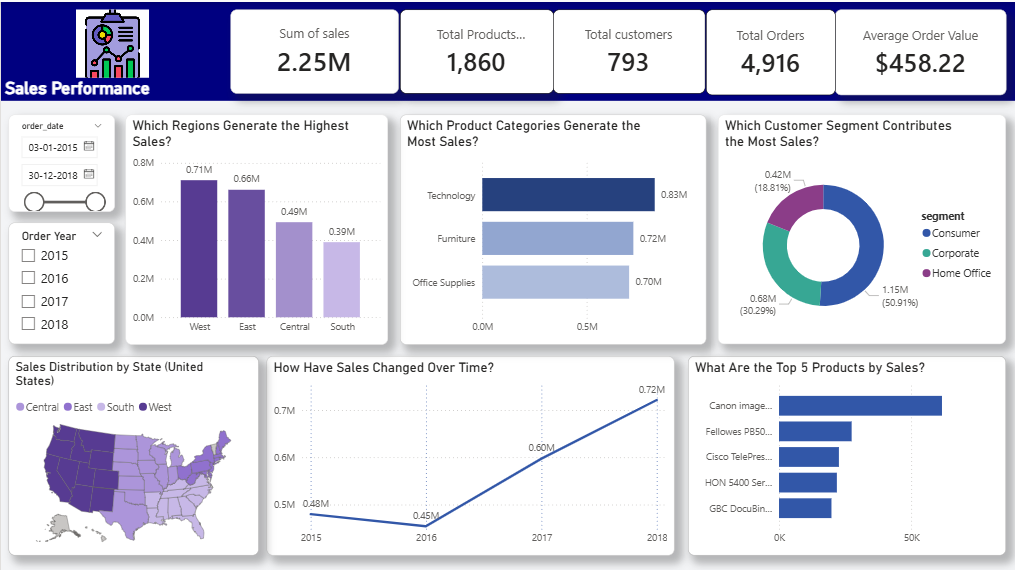

What the dashboard file says about the page in this screenshot:
{"tool":"powerbi","page":{"name":"Executive Sales Overview","canvas":[1280,720],"ordinal":0},"visuals":[{"type":"shape","box":[0,0,1279.6,124.5],"z":0},{"type":"textbox","title":"Sales Performance Overview","box":[0,95.9,336.7,22.4],"z":1000},{"type":"cardVisual","fields":{"Data":["Sum(sales_data.sales)"]},"box":[289.8,10.2,212.2,106.1],"z":2000},{"type":"cardVisual","fields":{"Data":["sales_data.Average order Value"]},"box":[1051,10.2,216.3,108.2],"z":3000},{"type":"slicer","fields":{"Values":["sales_data.order_date"]},"box":[9.4,141.7,134.2,122.8],"z":4000},{"type":"lineChart","title":"How Have Sales Changed Over Time?","fields":{"Category":["sales_data.order_date.Variation.Date Hierarchy.Year","sales_data.order_date.Variation.Date Hierarchy.Quarter","sales_data.order_date.Variation.Date Hierarchy.Month","sales_data.order_date.Variation.Date Hierarchy.Day"],"Y":["Sum(sales_data.sales)"]},"box":[334.5,446,514,251.3],"z":5000},{"type":"clusteredBarChart","title":"What Are the Top 5 Products by Sales?","fields":{"Category":["sales_data.product_name"],"Y":["Sum(sales_data.sales)"]},"box":[865.5,446,400.6,251.3],"z":6000},{"type":"shapeMap","title":"Sales Distribution by State (United States)","fields":{"Category":["sales_data.state"],"Value":["CountNonNull(sales_data.region)"],"Series":["sales_data.region"]},"box":[9.4,446,315.6,251.3],"z":7000},{"type":"cardVisual","fields":{"Data":["sales_data.Total Orders"]},"box":[887.8,10.2,163.3,108.2],"z":8000},{"type":"clusteredBarChart","title":"Which Product Categories Generate the Most Sales?","fields":{"Category":["sales_data.category"],"Y":["Sum(sales_data.sales)"]},"box":[502,140.8,385.7,289.8],"z":9000},{"type":"donutChart","title":"Which Customer Segment Contributes the Most Sales?","fields":{"Category":["sales_data.segment"],"Y":["Sum(sales_data.sales)"]},"box":[903.3,141.7,362.8,289.1],"z":10000},{"type":"slicer","fields":{"Values":["sales_data.Order Year"]},"box":[9.4,277.8,134.2,153.1],"z":11000},{"type":"clusteredColumnChart","title":"Which Regions Generate the Highest Sales?","fields":{"Category":["sales_data.region"],"Y":["Sum(sales_data.sales)"]},"box":[157.1,140.8,330.6,289.8],"z":12000},{"type":"cardVisual","fields":{"Data":["sales_data.Total Products Count"]},"box":[502,10.2,193.9,106.1],"z":13000},{"type":"cardVisual","fields":{"Data":["Count(sales_data.customer_id)"]},"box":[695.9,10.2,191.8,106.1],"z":14000},{"type":"image","box":[93.9,10.2,91.8,85.7],"z":15000}]}

Visuals, with their boxes in screenshot pixels (x1, y1, x2, y2), scaled from the page's 1280x720 canvas onto the 1015x570 screenshot:
shape: region(0, 0, 1014, 99)
"Sales Performance Overview" textbox: region(0, 76, 267, 94)
cardVisual - Sum(sales_data.sales): region(230, 8, 398, 92)
cardVisual - sales_data.Average order Value: region(833, 8, 1005, 94)
slicer - sales_data.order_date: region(7, 112, 114, 209)
"How Have Sales Changed Over Time?" lineChart: region(265, 353, 673, 552)
"What Are the Top 5 Products by Sales?" clusteredBarChart: region(686, 353, 1004, 552)
"Sales Distribution by State (United States)" shapeMap: region(7, 353, 258, 552)
cardVisual - sales_data.Total Orders: region(704, 8, 833, 94)
"Which Product Categories Generate the Most Sales?" clusteredBarChart: region(398, 111, 704, 341)
"Which Customer Segment Contributes the Most Sales?" donutChart: region(716, 112, 1004, 341)
slicer - sales_data.Order Year: region(7, 220, 114, 341)
"Which Regions Generate the Highest Sales?" clusteredColumnChart: region(125, 111, 387, 341)
cardVisual - sales_data.Total Products Count: region(398, 8, 552, 92)
cardVisual - Count(sales_data.customer_id): region(552, 8, 704, 92)
image: region(74, 8, 147, 76)
